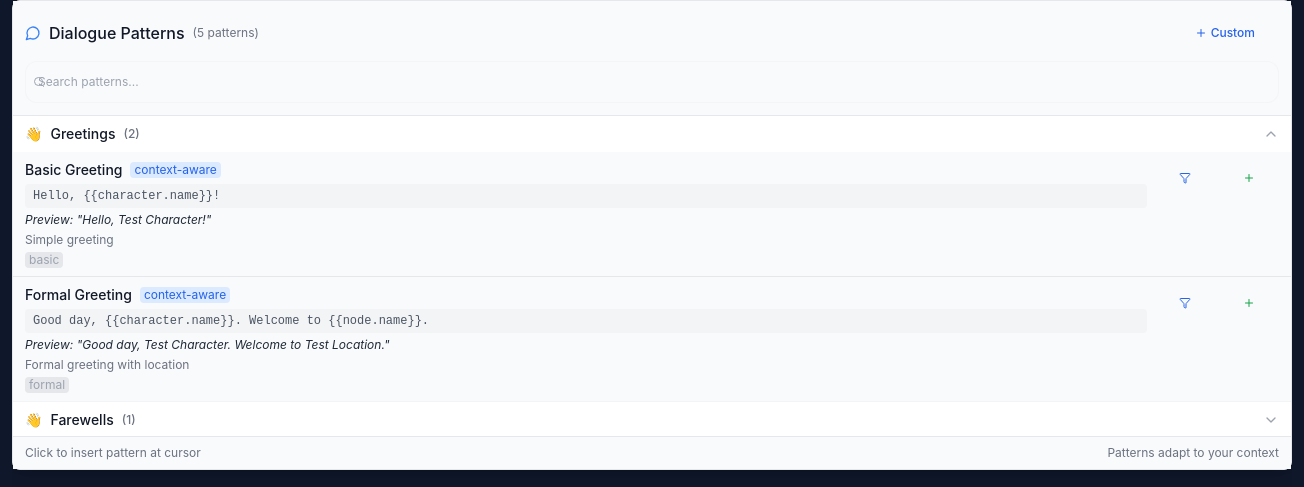
Scenario: DialoguePatterns Enhanced Tests › Advanced Functionality › handles search with no results
In the field with placeholder "Search patterns...": (652, 82) [25,61,1279,103], type "nonexistent"
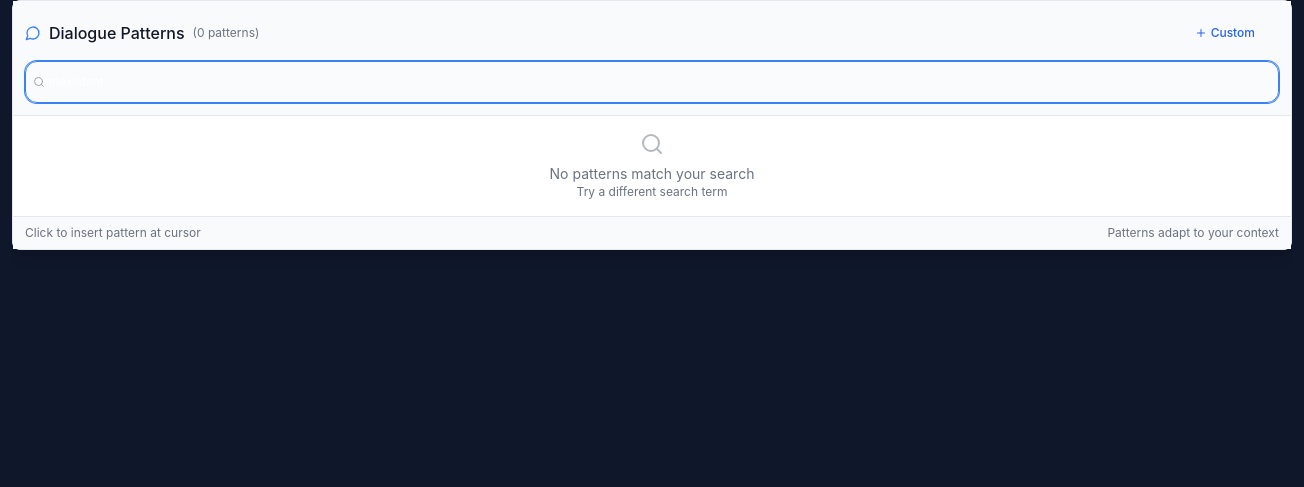
Result: the text "No patterns match your search" is shown at [550,165,754,182]
